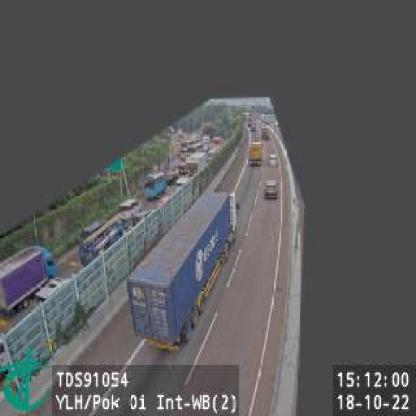Bus: (143, 170, 168, 201)
Car: (119, 196, 143, 215), (264, 178, 278, 198), (269, 152, 280, 169)
Truck: (126, 189, 240, 352), (1, 247, 57, 326), (79, 212, 126, 270), (186, 152, 209, 177), (250, 140, 263, 167)
